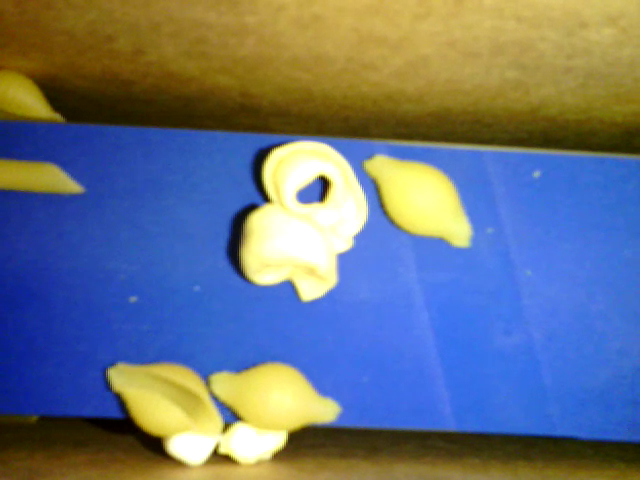penne: (2, 159, 89, 196)
shell: (362, 150, 476, 254), (105, 361, 225, 444), (207, 362, 344, 433), (1, 70, 65, 128)
tortellini: (259, 135, 371, 253), (237, 205, 343, 307)
